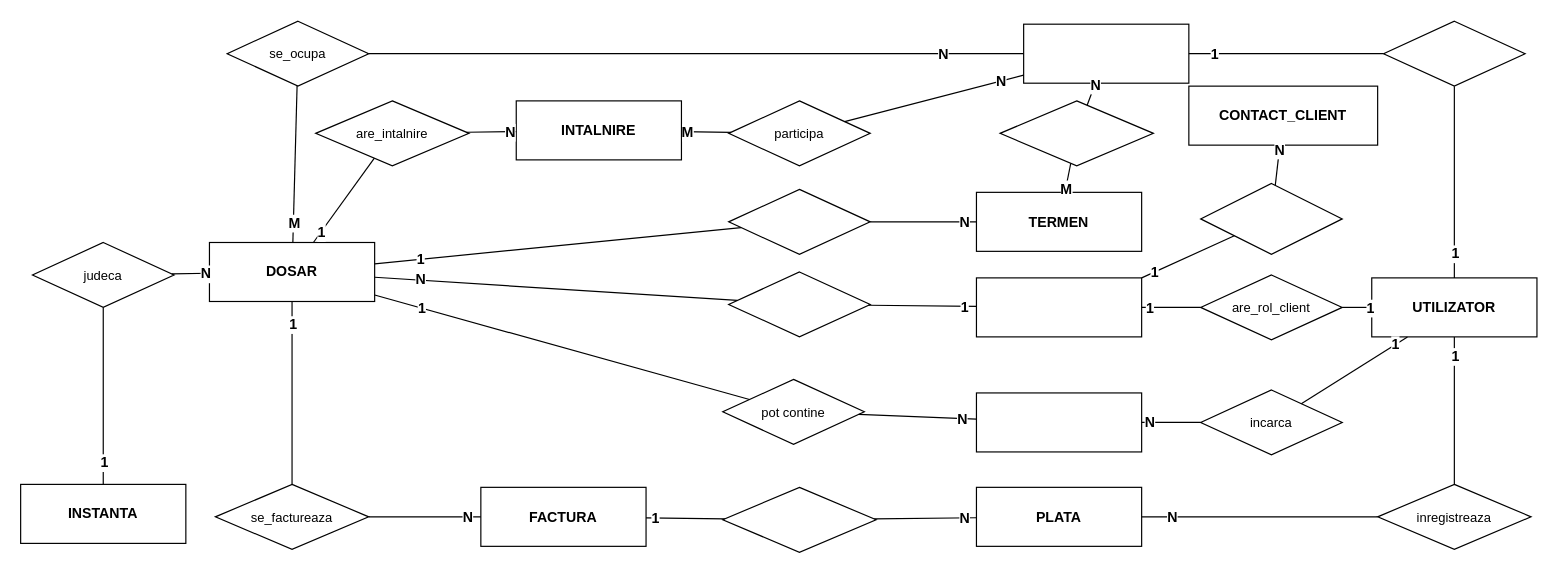
This 1558x572 diagram has some shape labels left out. Each missing label, with the box of its shape:
are_contact: (1199, 182, 1342, 254)
are_rol_avocat: (1382, 20, 1525, 86)
are_termen: (727, 188, 870, 254)
AVOCAT: (1022, 23, 1189, 83)
CLIENT: (975, 277, 1142, 337)
detine: (727, 271, 870, 337)
DOCUMENT: (975, 392, 1142, 452)
raspunde_de: (999, 100, 1153, 166)
se_achita_prin: (722, 486, 876, 552)
